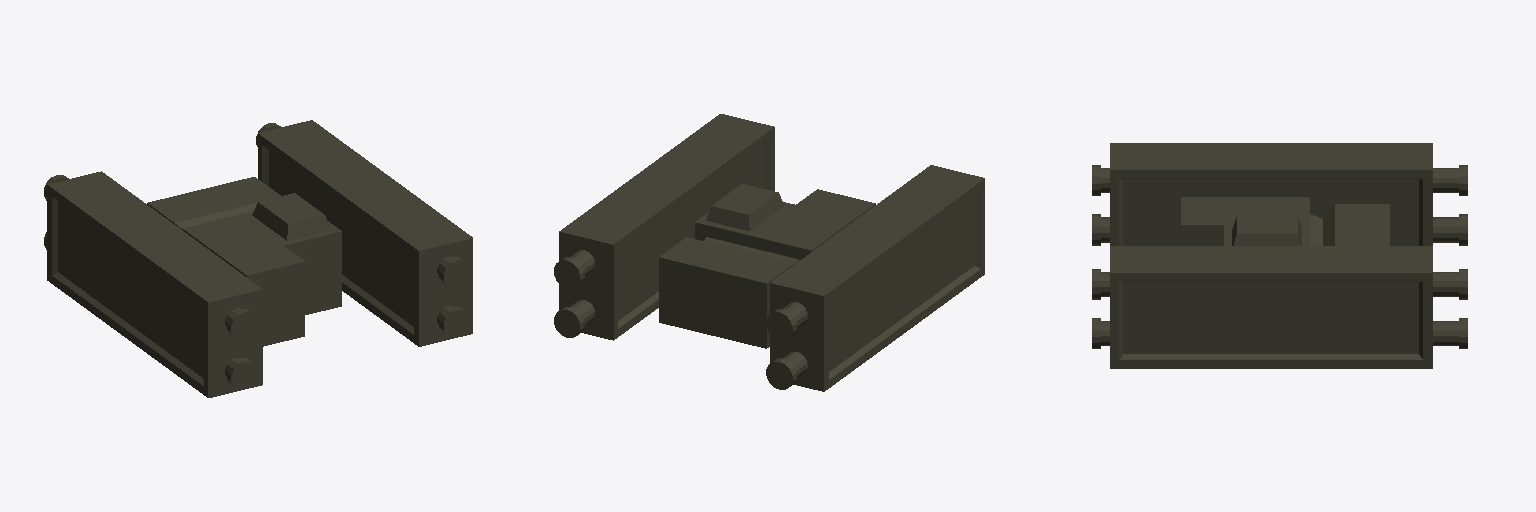
Rendered from gun.obj.
3 renders of one model, left to right at view 1: azimuth 30°, elevation 25°; view 2: azimuth 150°, elevation 25°; view 3: azimuth 270°, elevation 25°, orthographic.
Visible parts, largest first — view 1: Ozelot:LauncherTop, Ozelot:F2Tube, Ozelot:F3Tube, Ozelot:F1Tube, Ozelot:F4Tube; view 2: Ozelot:LauncherTop, Ozelot:R2Tube, Ozelot:R3Tube, Ozelot:R1Tube, Ozelot:R4Tube; view 3: Ozelot:LauncherTop.
Boxes of the visible parts, <box> form: Ozelot:LauncherTop: <box>47,120,472,397</box>; Ozelot:F2Tube: <box>227,358,257,389</box>; Ozelot:F3Tube: <box>439,257,469,288</box>; Ozelot:F1Tube: <box>227,309,257,340</box>; Ozelot:F4Tube: <box>439,307,469,337</box>; Ozelot:LauncherTop: <box>559,114,984,391</box>; Ozelot:R2Tube: <box>766,358,796,389</box>; Ozelot:R3Tube: <box>554,257,584,288</box>; Ozelot:R1Tube: <box>766,309,796,340</box>; Ozelot:R4Tube: <box>554,307,584,337</box>; Ozelot:LauncherTop: <box>1101,143,1458,368</box>.
Size of the model in its own units: 102 by 35.15 by 125.